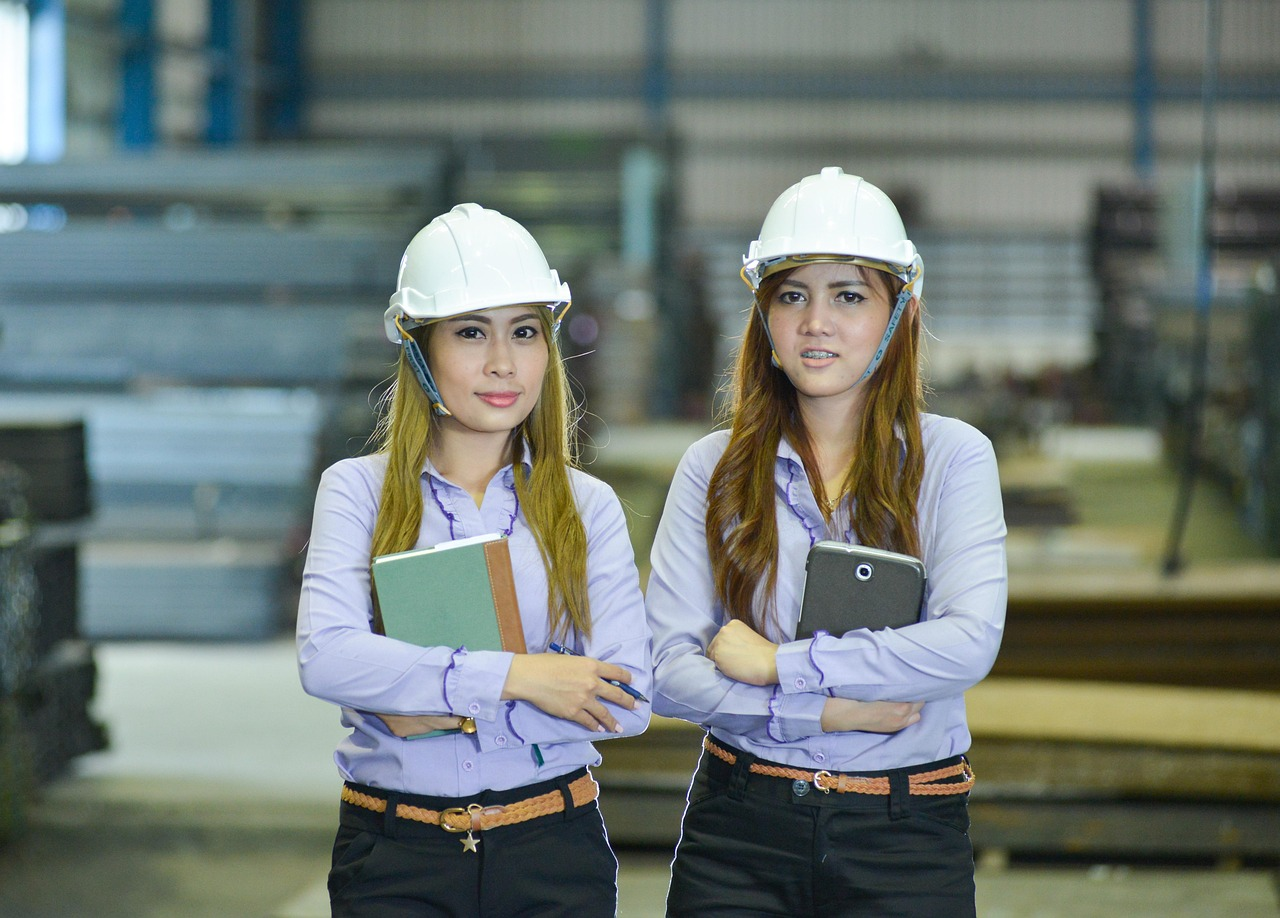Casco de seguridad: (384, 204, 570, 339), (744, 167, 916, 286)
